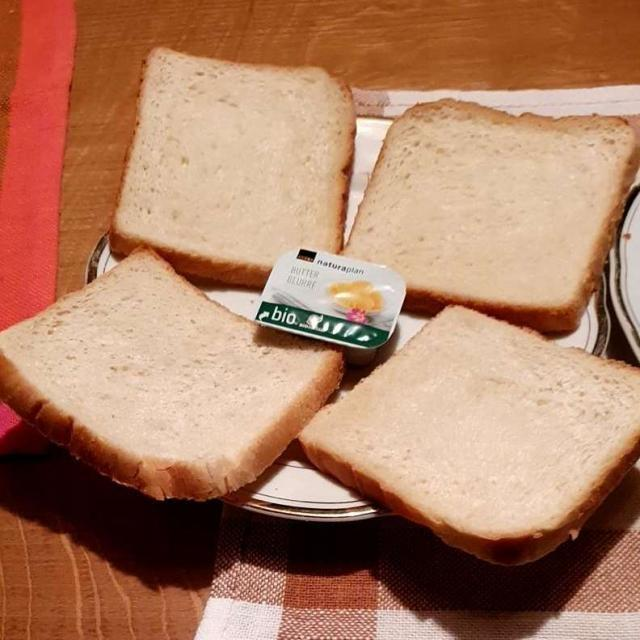bread: (1, 43, 634, 555)
butter: (255, 248, 422, 355)
